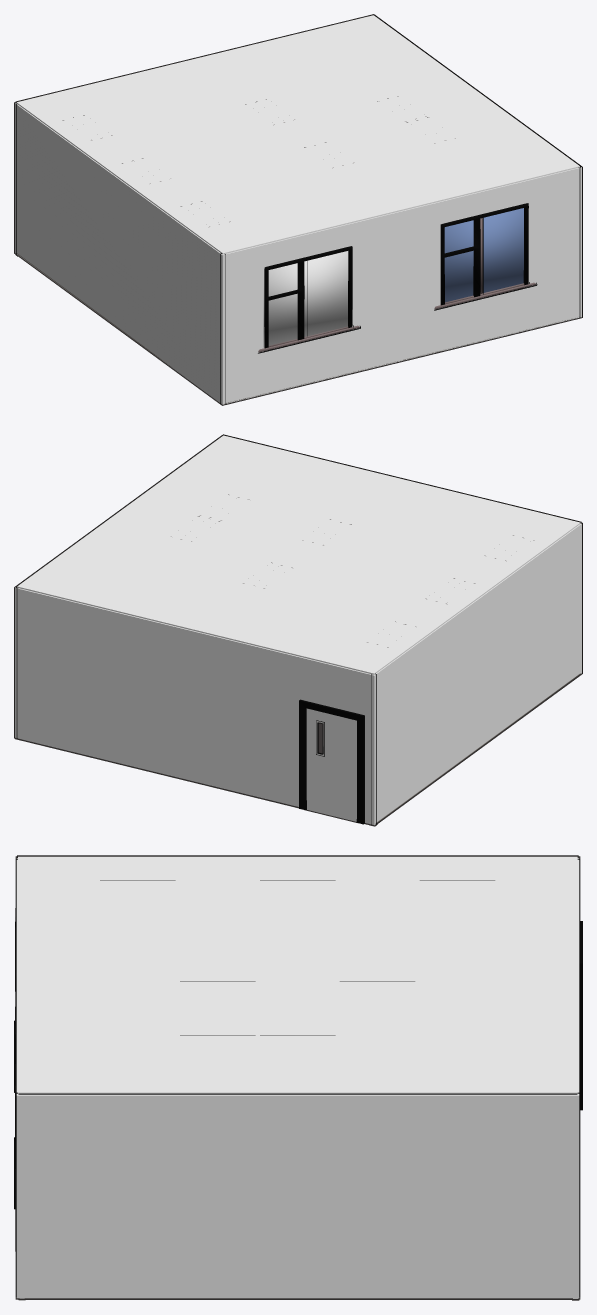
The model's file is Room2.fbx.
The picture shows the model from 3 angles, top to bottom: view 1: azimuth 30°, elevation 25°; view 2: azimuth 150°, elevation 25°; view 3: azimuth 270°, elevation 25°; orthographic projection. The views are drawn at different scales.
Visible parts, largest first — view 1: Cube.006_Cube.010; view 2: Cube.006_Cube.010; view 3: Cube.006_Cube.010.
Boxes of the visible parts, left/top/right/bottom form: Cube.006_Cube.010: left=14, top=14, right=582, bottom=405; Cube.006_Cube.010: left=14, top=434, right=582, bottom=826; Cube.006_Cube.010: left=14, top=855, right=582, bottom=1300.
Bounding box in the file's own units: 3533 × 1434 × 3560.
